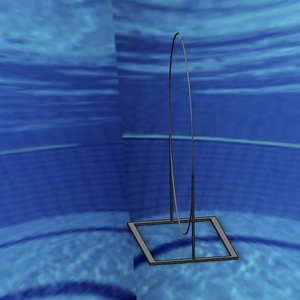circle: (125, 29, 238, 266)
